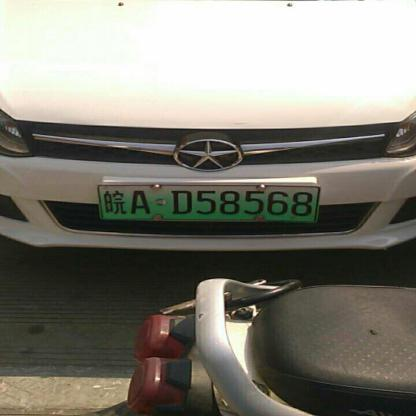lp: (98, 185, 320, 222)
